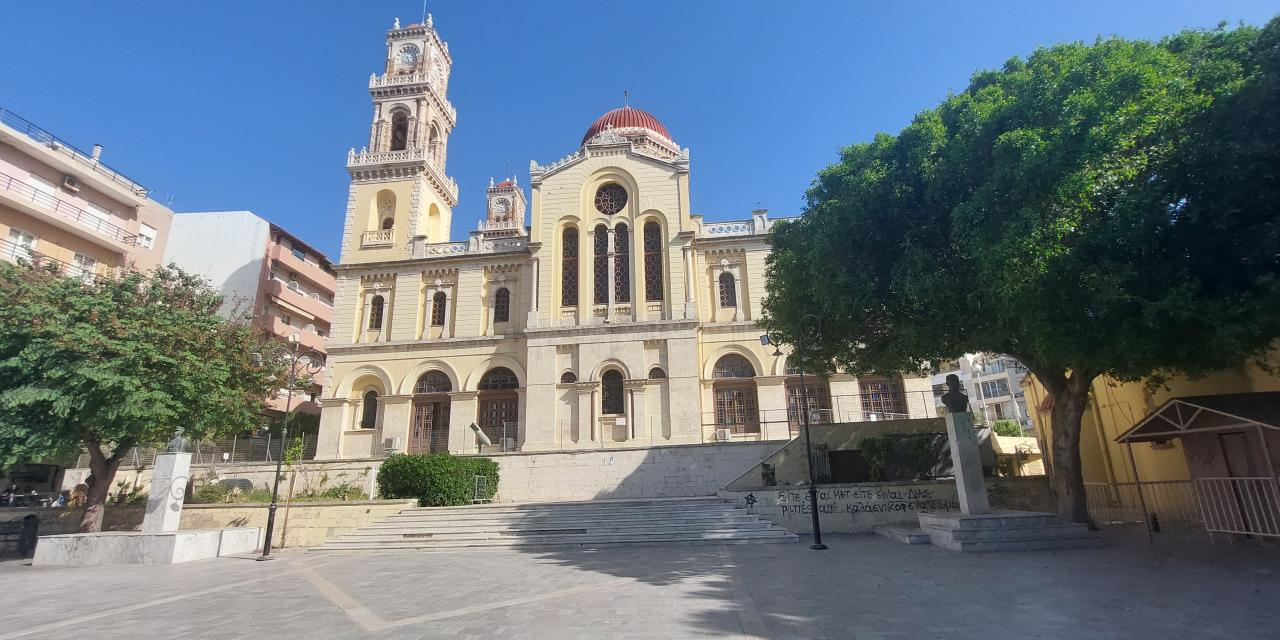Agios Minas: (314, 12, 940, 444)
